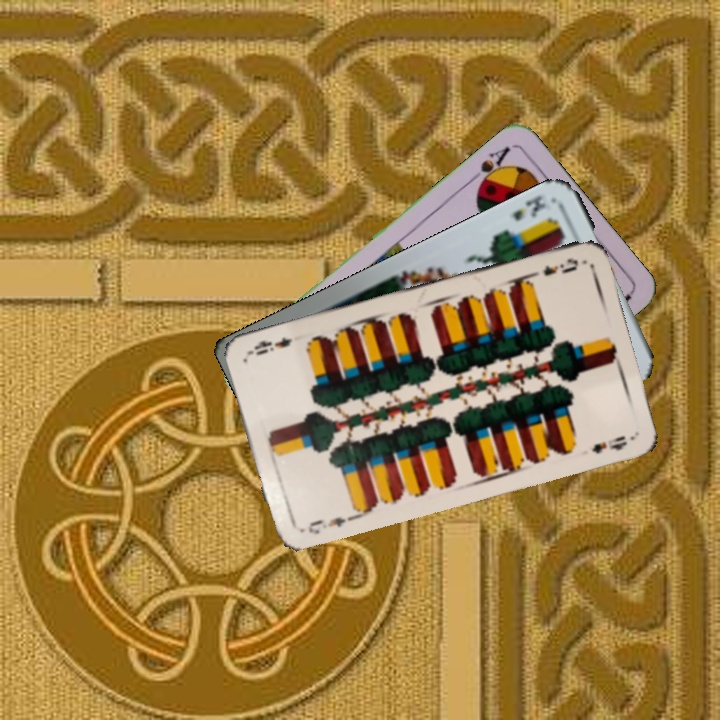E9: (526, 254, 581, 280), (304, 512, 355, 537)
EK: (508, 191, 548, 224)
SA: (464, 142, 513, 193)
